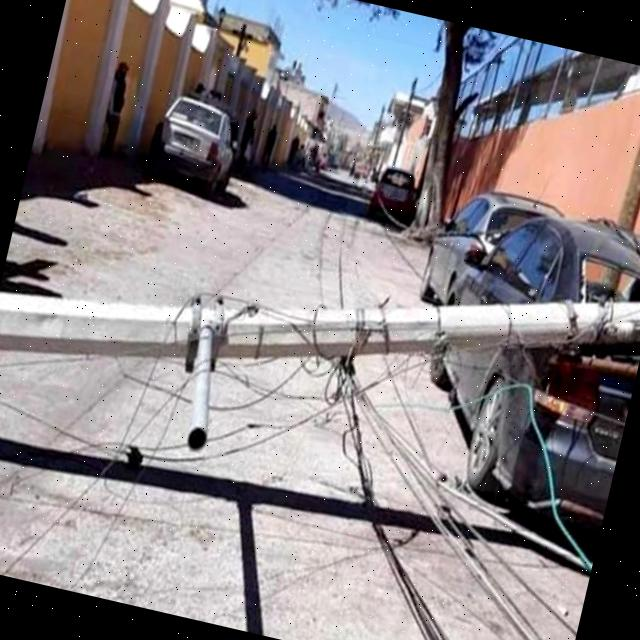Broken Pole: (0, 287, 640, 516)
